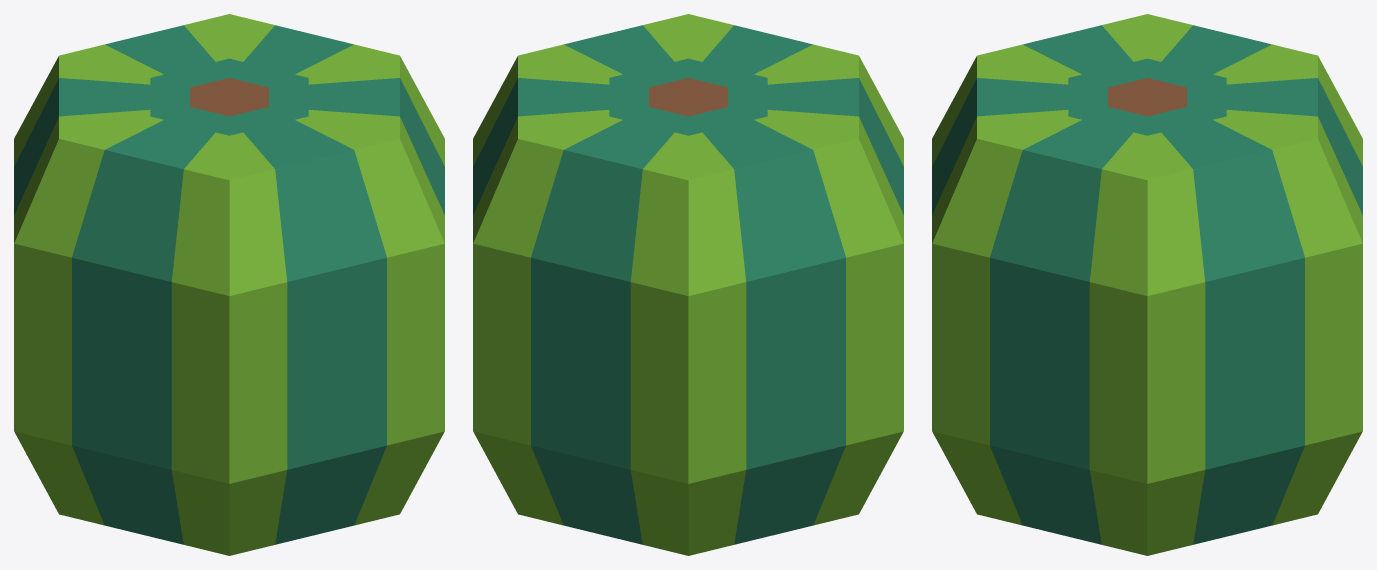
The model's file is melon.glb.
3 views of the same model, side by side, from view 1: azimuth 30°, elevation 25°; view 2: azimuth 150°, elevation 25°; view 3: azimuth 270°, elevation 25° (orthographic).
Parts seen in each view (by area): view 1: crop_melon; view 2: crop_melon; view 3: crop_melon.
Boxes of the visible parts, x1,y1,x2,y2 form: crop_melon: [14, 14, 444, 555]; crop_melon: [473, 14, 903, 555]; crop_melon: [932, 14, 1362, 555].
Size of the model in its own units: 0.4802 by 0.4002 by 0.4159.
